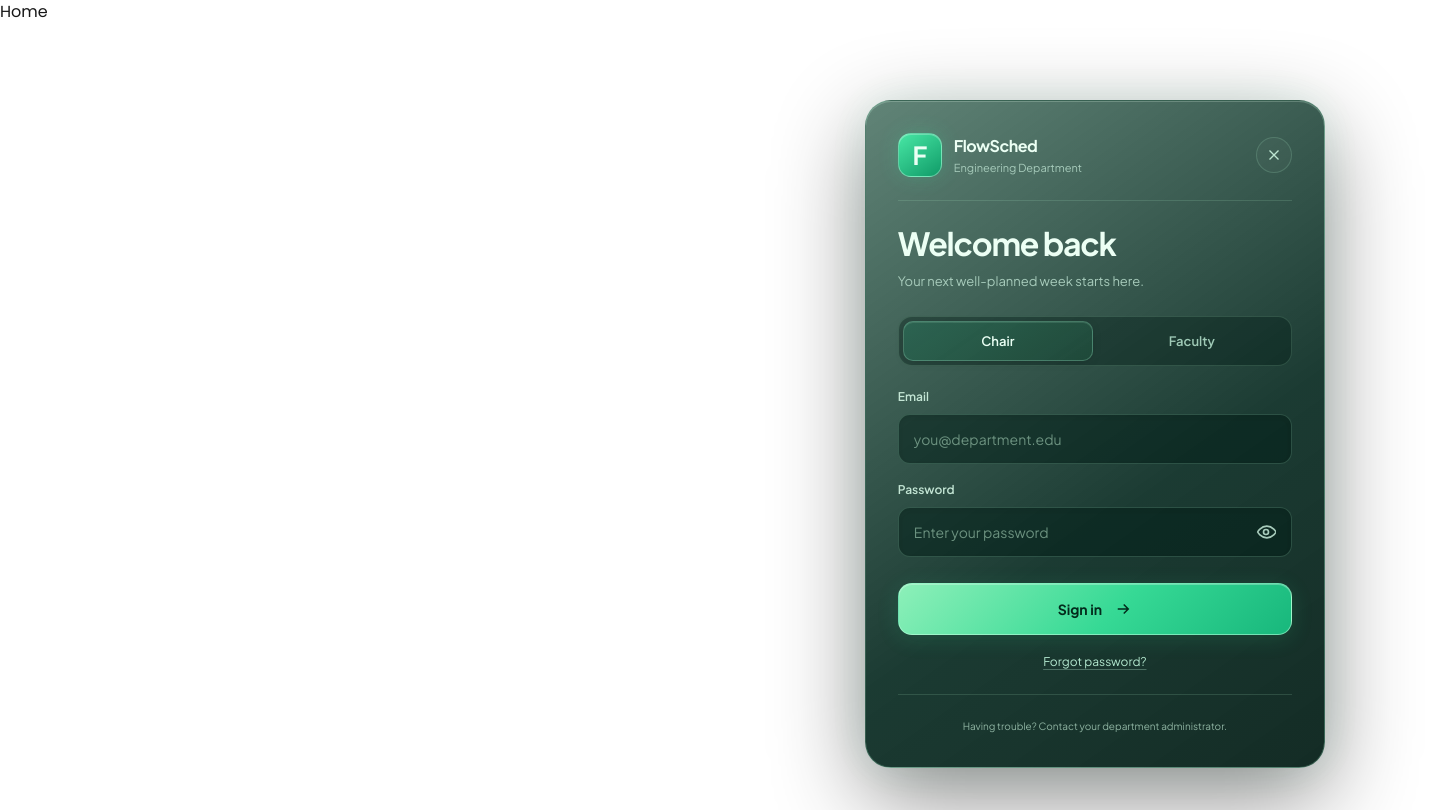
Test: LoginModal › shows client-side validation errors for a bad email
The image size is (1440, 810).
Type "not-an-email" into the field labelled "Email" at (1095, 440), box [898, 414, 1292, 464]
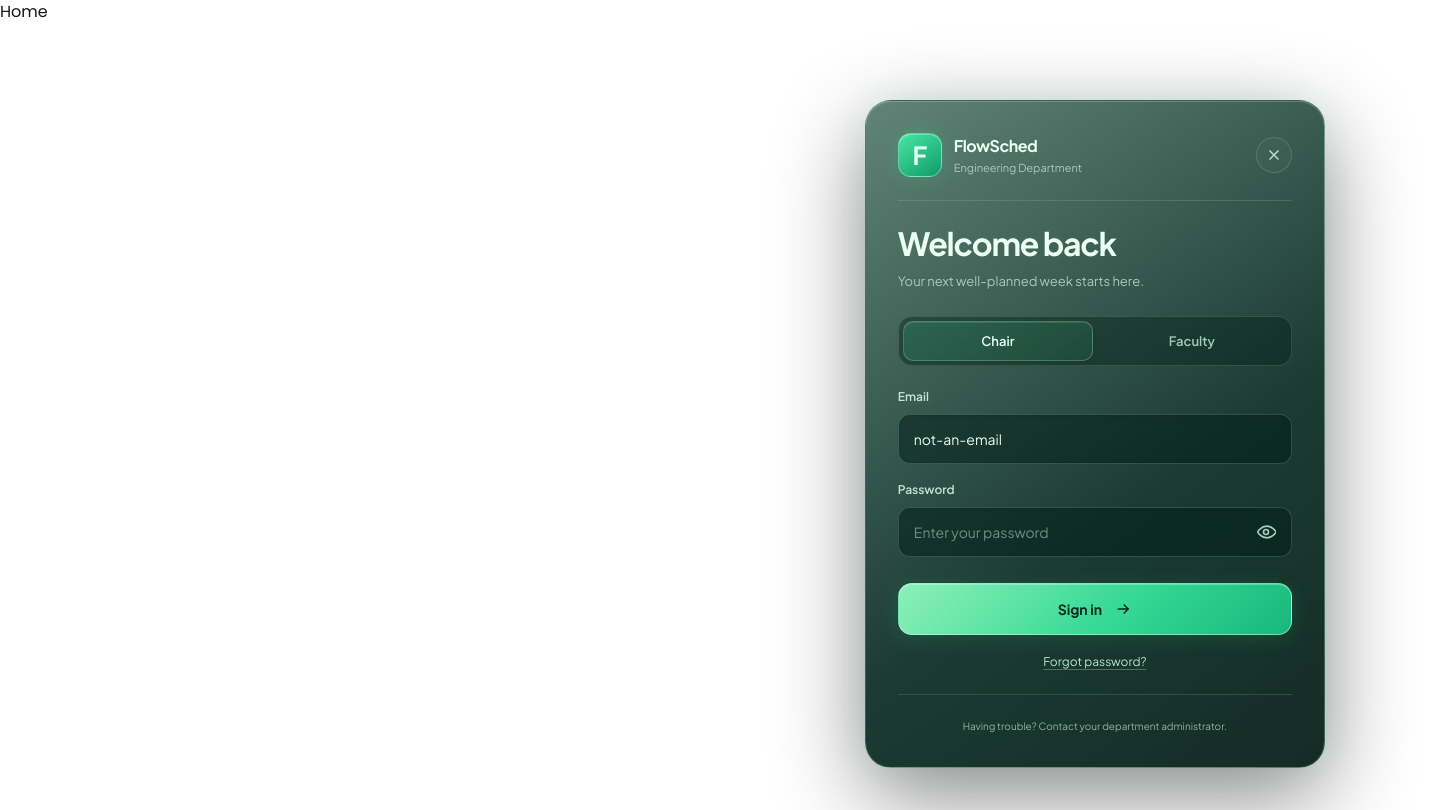
Type "something" into the password field labelled "Password" at (1095, 532), box [898, 508, 1292, 558]
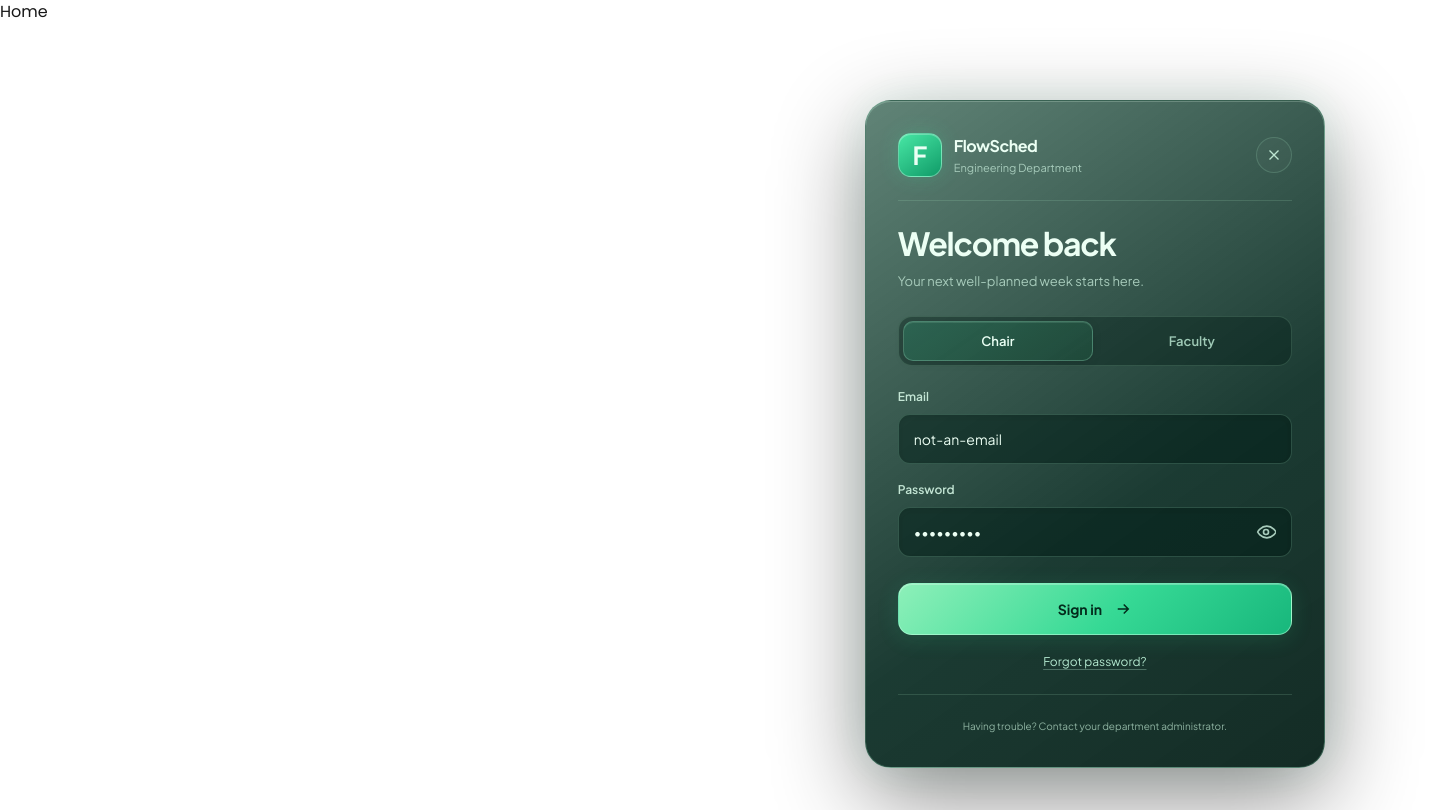
Click the button "Sign in" at (1095, 610), box [898, 584, 1292, 636]
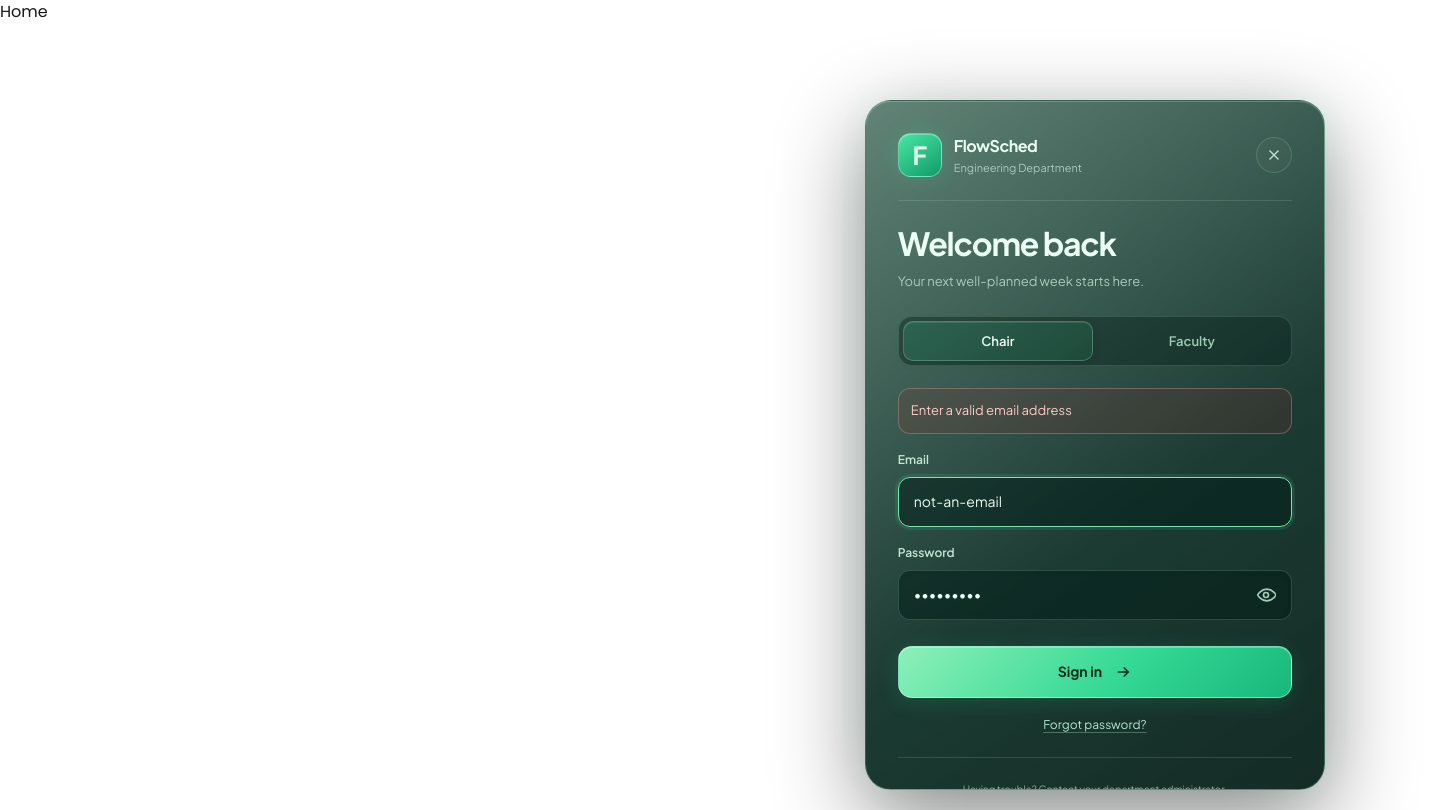
Expected: the text "Enter a valid email address" is shown, [898, 388, 1292, 434]
